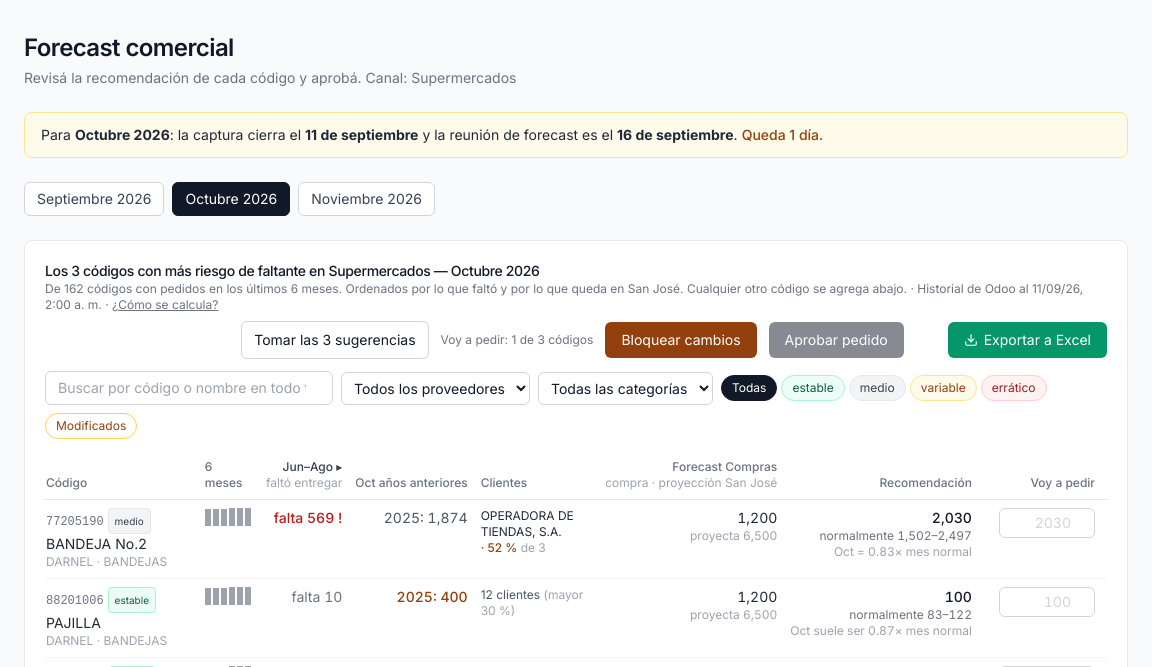
Test: «Bloquear cambios» › «Aprobar pedido» está apagado hasta bloquear; después de bloquear, pide confirmación y manda el PATCH
This screenshot has width=1152, height=667.
Expected: the text "77205190" is shown, [46,515,104,529]
Expected: the button "Aprobar pedido" is disabled, [769,322,904,358]
Click the button "Bloquear cambios": (681, 340) [605,322,757,358]
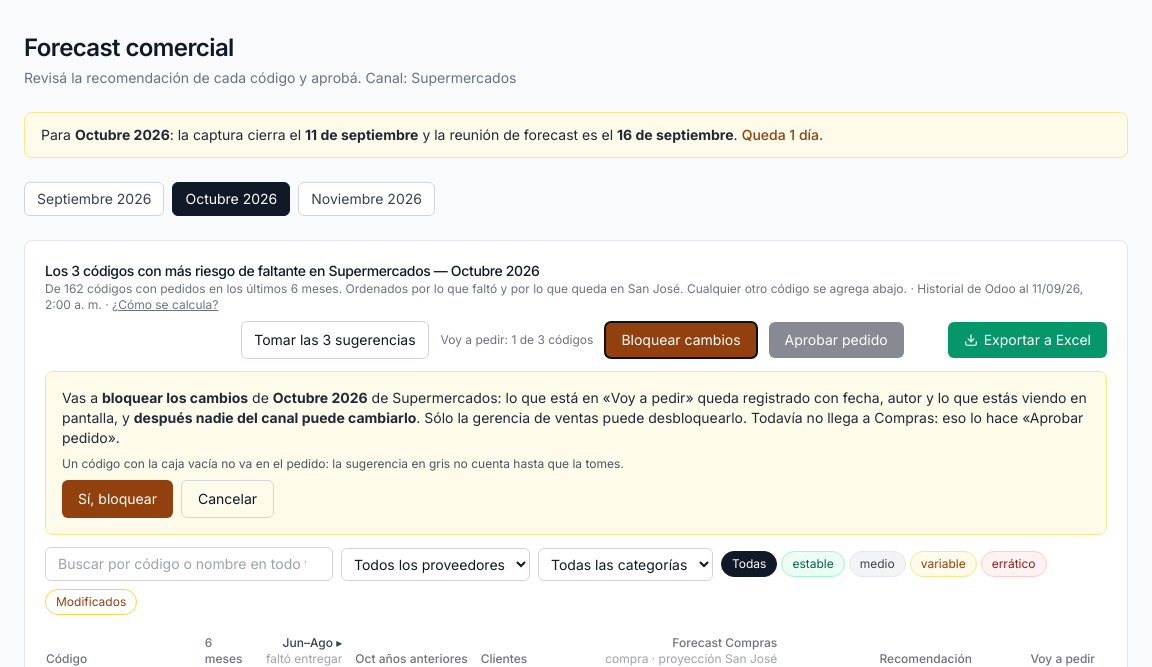
Click the button "Sí, bloquear": (118, 499) [62,480,173,518]
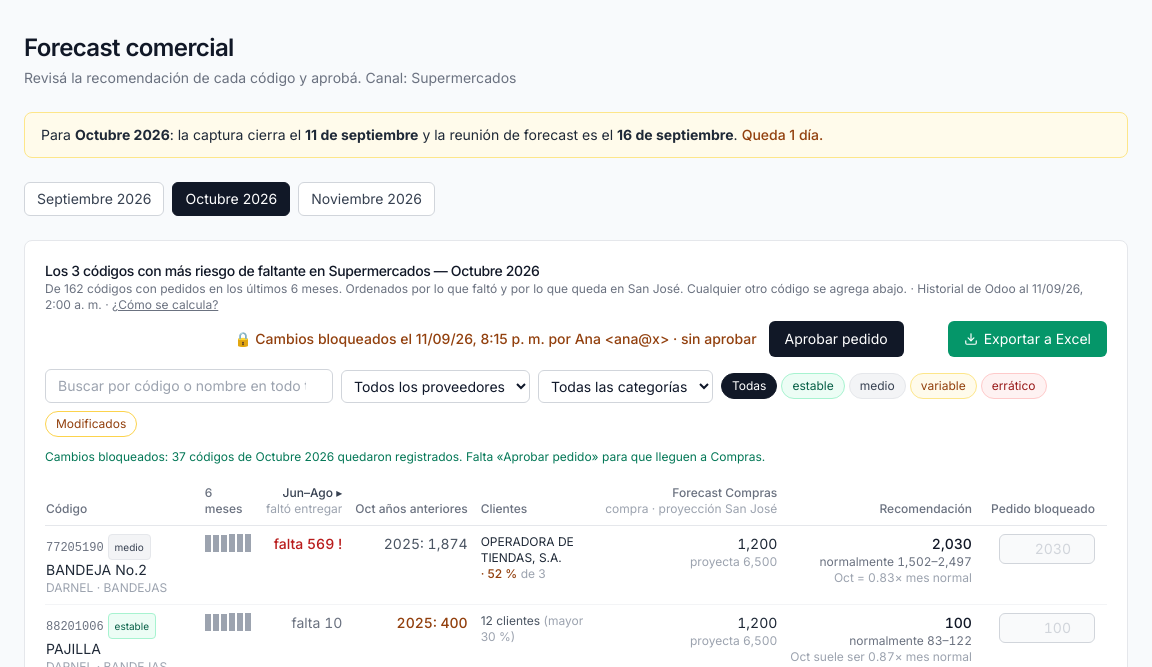
Expected: the button "Aprobar pedido" is enabled
Click the button "Aprobar pedido": (836, 339) [769,321,904,357]
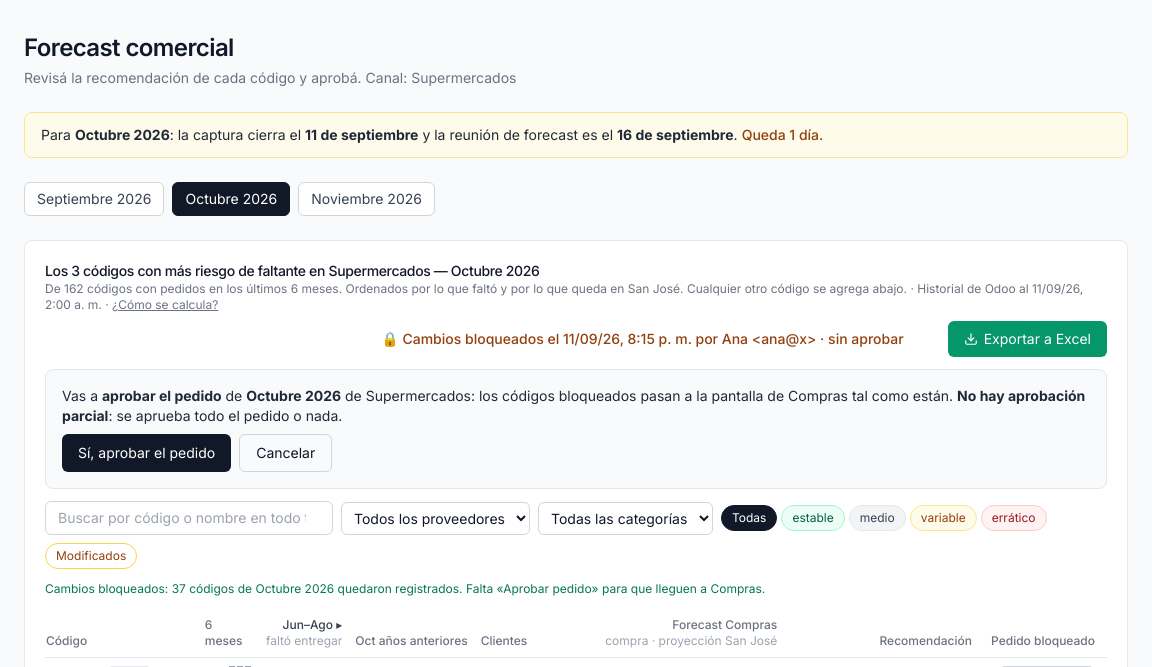
Expected: the element with test id "confirmar-aprobacion" shows "No hay aprobación parcial", [62,387,1085,424]
Click the button "Sí, aprobar el pedido": (147, 453) [62,434,231,472]
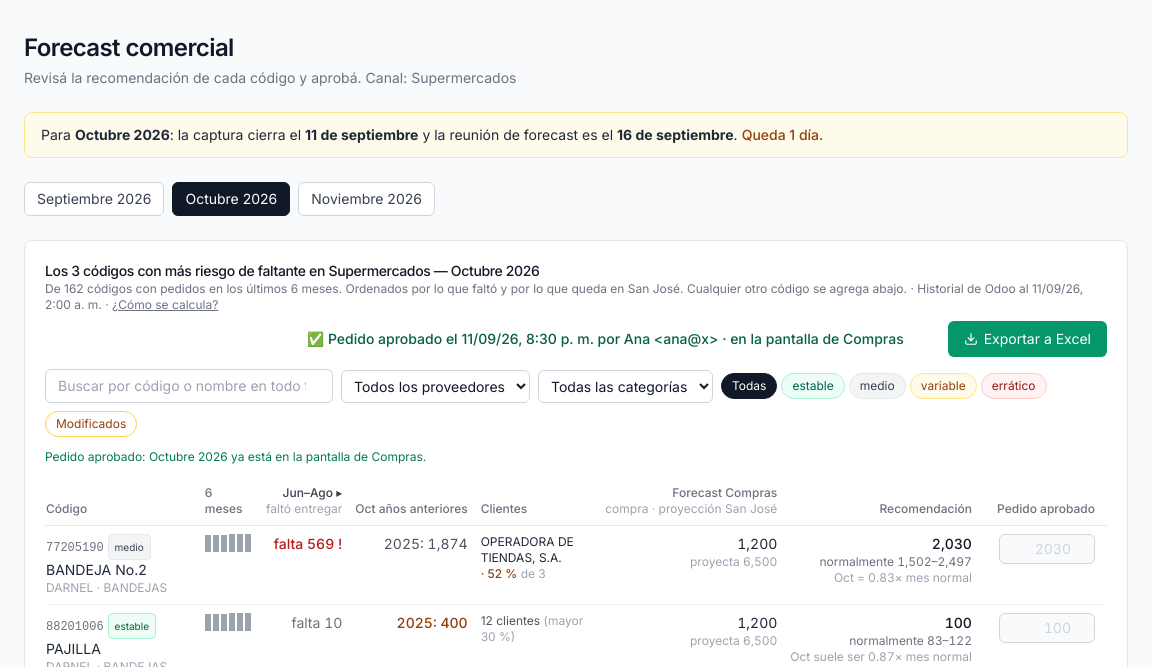
Expected: the text "Aprobar pedido" is gone
Expected: the column heading "Pedido aprobado" is shown, [984,477,1107,526]
